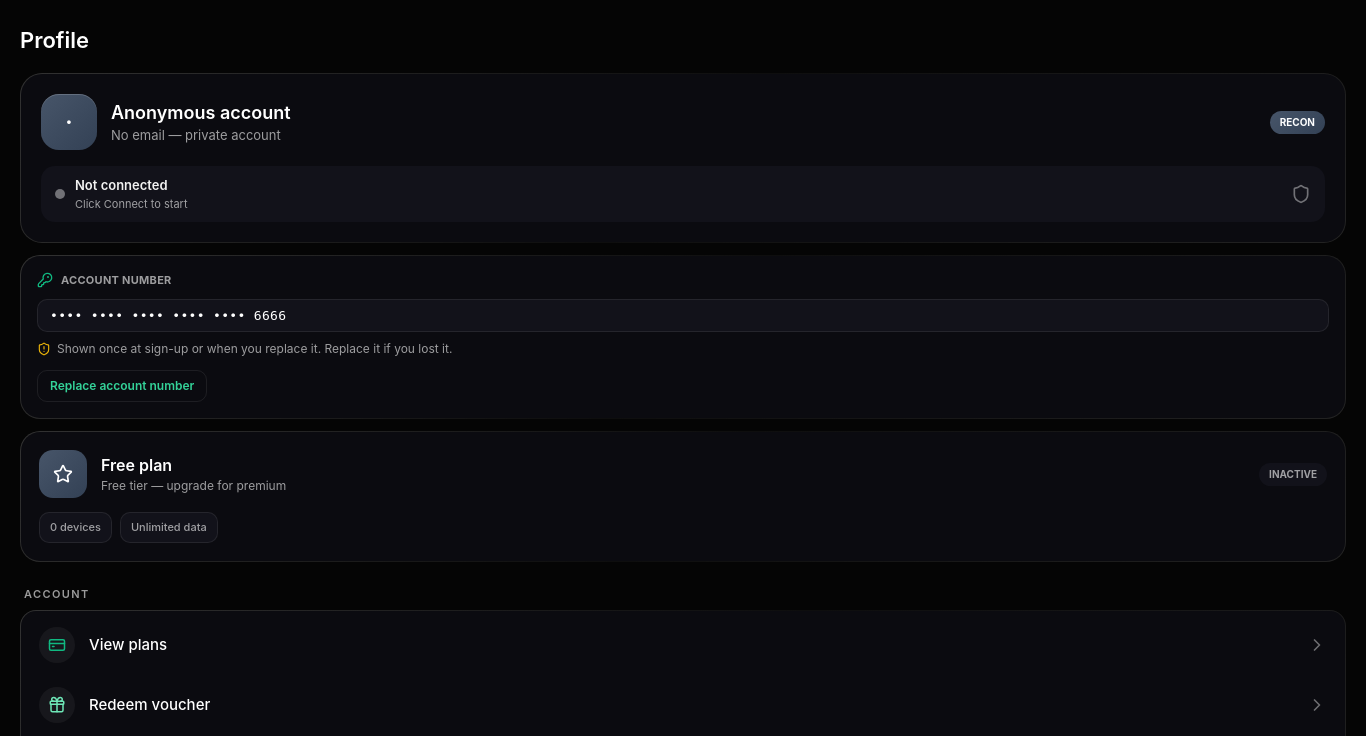
Test: the number on Profile › the replace button appears only with the flag on, and opens the dialog
The image size is (1366, 736).
Click the button "Replace account number" at (122, 386), box left=37, top=370, right=207, bottom=402
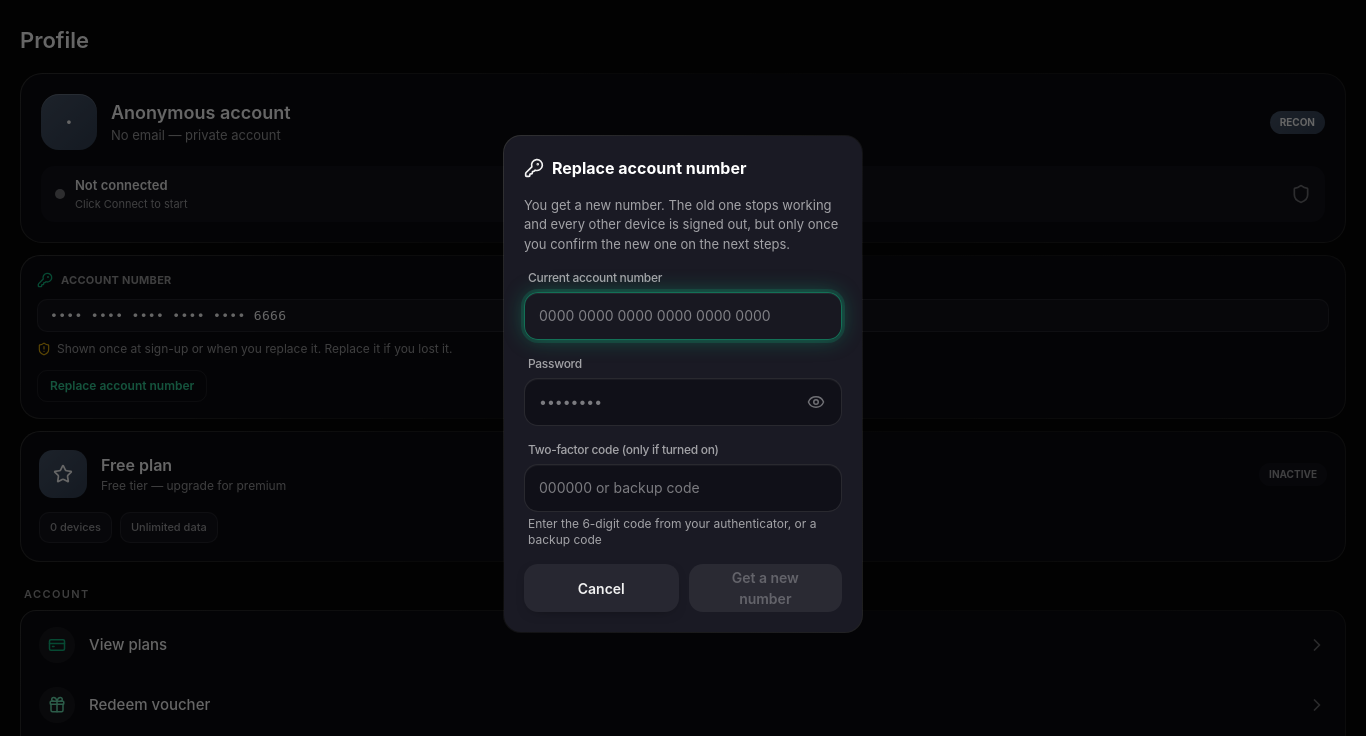
Expected: the field labelled "Current account number" is shown, left=539, top=306, right=827, bottom=326
